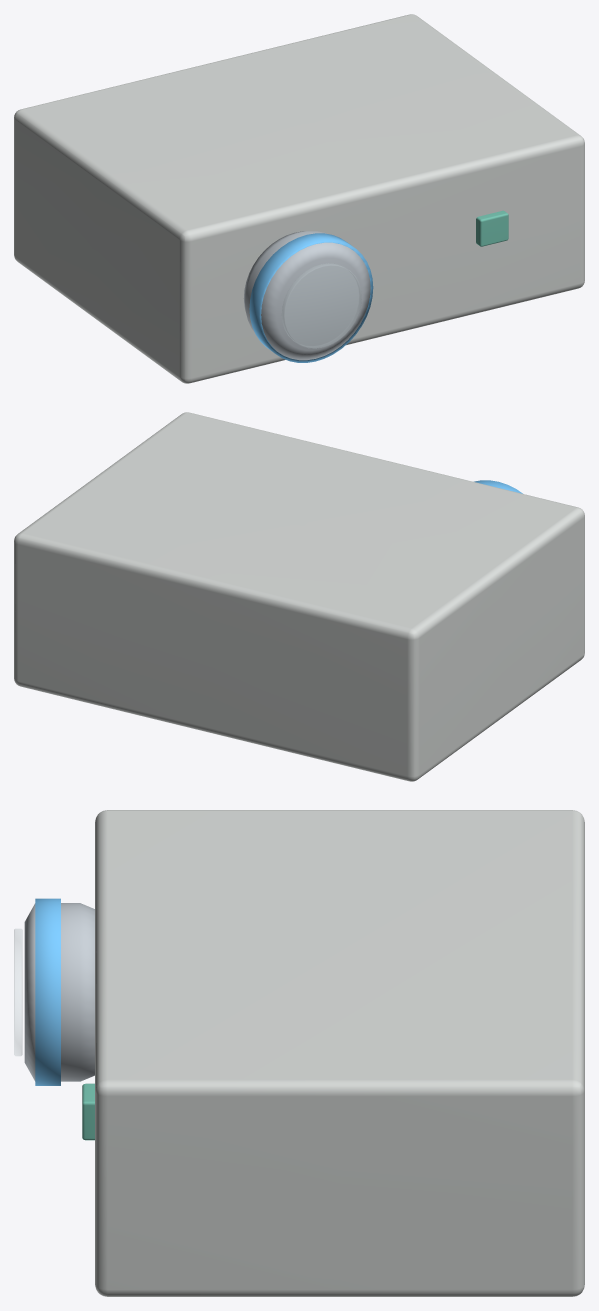
The model's file is projector.glb.
The picture shows the model from 3 angles, top to bottom: view 1: azimuth 30°, elevation 25°; view 2: azimuth 150°, elevation 25°; view 3: azimuth 270°, elevation 25°; orthographic projection. The views are drawn at different scales.
Visible parts, largest first — view 1: Projector_Case, Projection_Lens, Lens_Glass, Focus_Ring, Projector_Power_Cap; view 2: Projector_Case; view 3: Projector_Case, Projection_Lens, Focus_Ring, Lens_Glass, Projector_Power_Cap.
Boxes of the visible parts, bbox=[...] form: Projector_Case: bbox=[14, 14, 584, 383]; Projection_Lens: bbox=[243, 231, 370, 360]; Lens_Glass: bbox=[282, 263, 361, 348]; Focus_Ring: bbox=[249, 233, 373, 362]; Projector_Power_Cap: bbox=[476, 210, 508, 246]; Projector_Case: bbox=[14, 412, 584, 781]; Projector_Case: bbox=[95, 810, 584, 1296]; Projection_Lens: bbox=[24, 903, 94, 1081]; Focus_Ring: bbox=[35, 898, 60, 1085]; Lens_Glass: bbox=[14, 929, 22, 1055]; Projector_Power_Cap: bbox=[82, 1083, 94, 1140].
Bounding box in the file's own units: 0.31 × 0.112 × 0.268.
